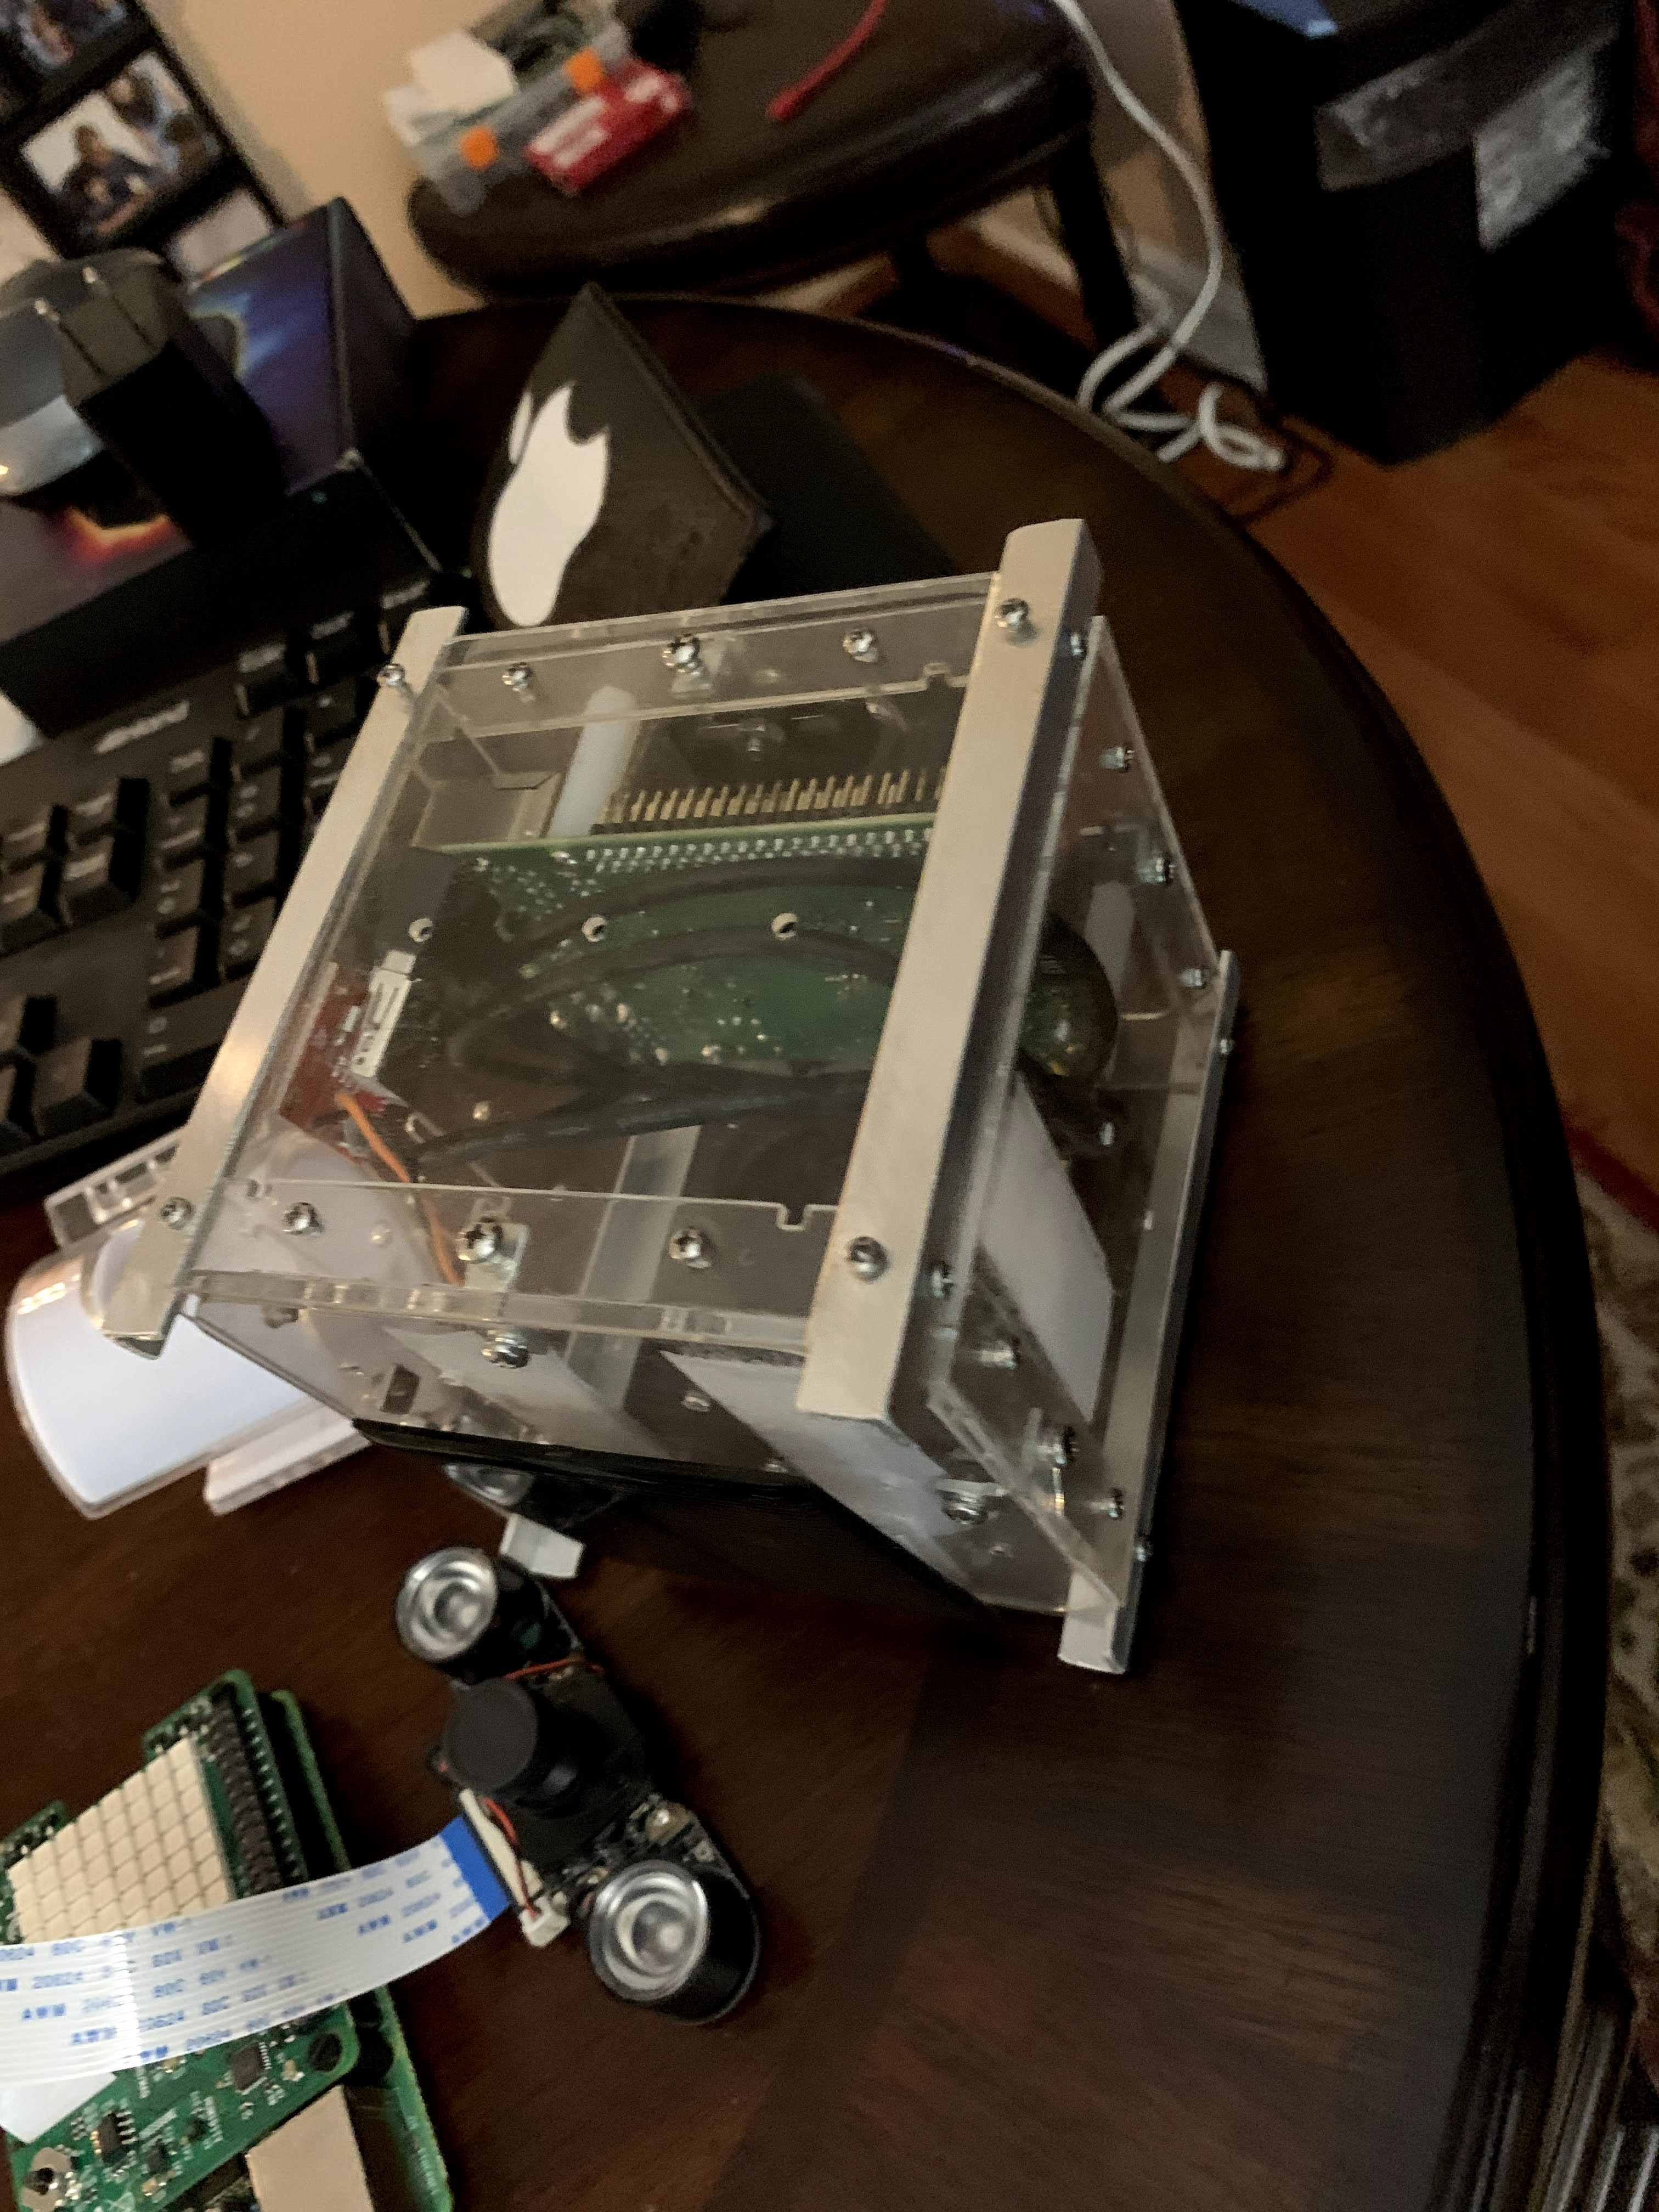Space-debris-cubesat: (103, 510, 1274, 1712)
